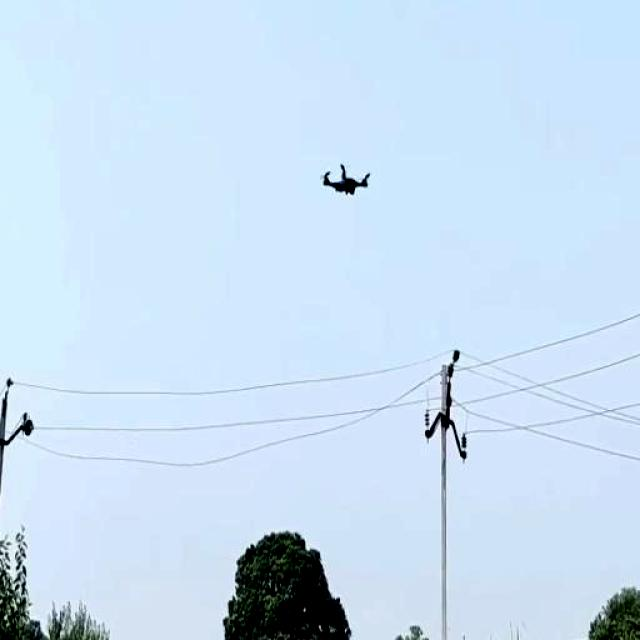bird: (304, 140, 375, 208)
